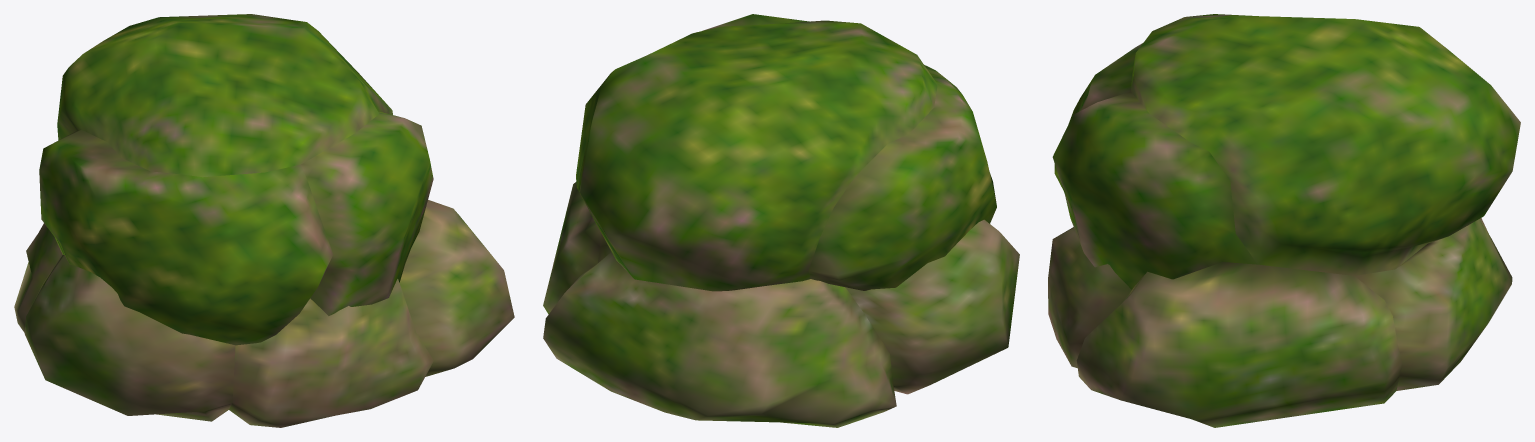
File: sb_obj_nature006_Stone04e.fbx
3 renders of one model, left to right at view 1: azimuth 30°, elevation 25°; view 2: azimuth 150°, elevation 25°; view 3: azimuth 270°, elevation 25°, orthographic. The views are drawn at different scales.
Parts seen in each view (by area): view 1: sb_obj_nature006_Stone04e; view 2: sb_obj_nature006_Stone04e; view 3: sb_obj_nature006_Stone04e.
Boxes of the visible parts, bbox=[...] form: sb_obj_nature006_Stone04e: bbox=[14, 14, 514, 427]; sb_obj_nature006_Stone04e: bbox=[543, 14, 1019, 427]; sb_obj_nature006_Stone04e: bbox=[1048, 14, 1520, 427].
Size of the model in its own units: 0.5374 by 0.347 by 0.5011.
